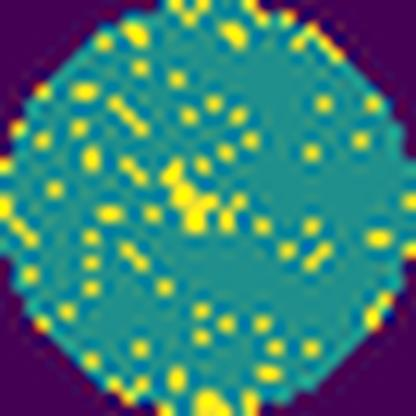Center: (154, 157, 234, 241)
